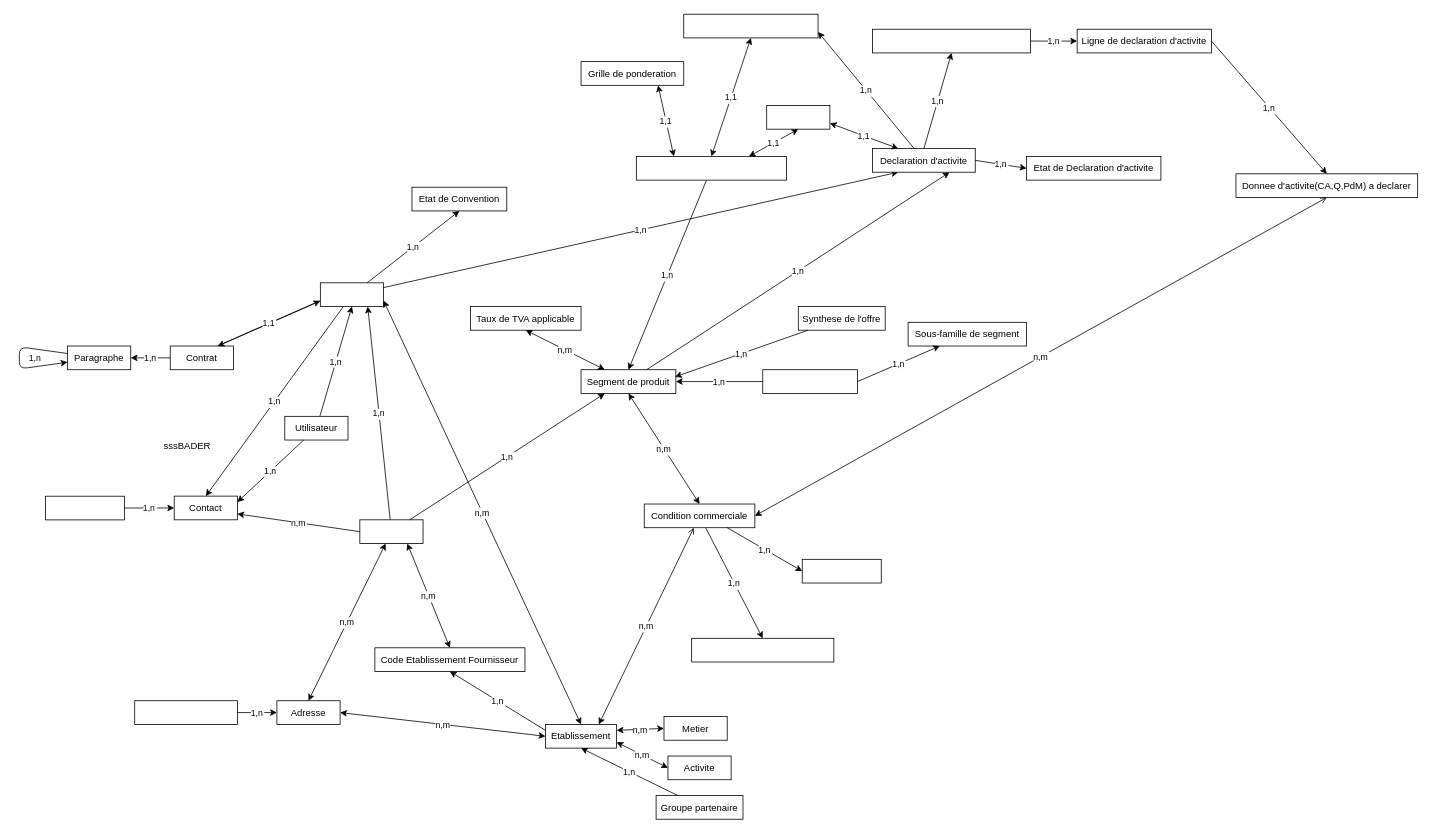
Some shapes in this 1431 by 833 pixel diagram are drawn without their labels. Each missing label, with the centre of its shape:
CA N-1: (798,117)
Convention: (352,294)
Declaration d'activité par segment: (951,40)
Designation d'adresse: (185,712)
Famille de segment: (810,381)
Fournisseur: (391,531)
Intitule de Poste: (84,507)
Libelle d'objectif: (841,571)
Ligne de condition commerciale: (762,650)
Prevision de cloture initiale PC0: (711,168)
Prevision de cloture n (PCn): (750,25)
